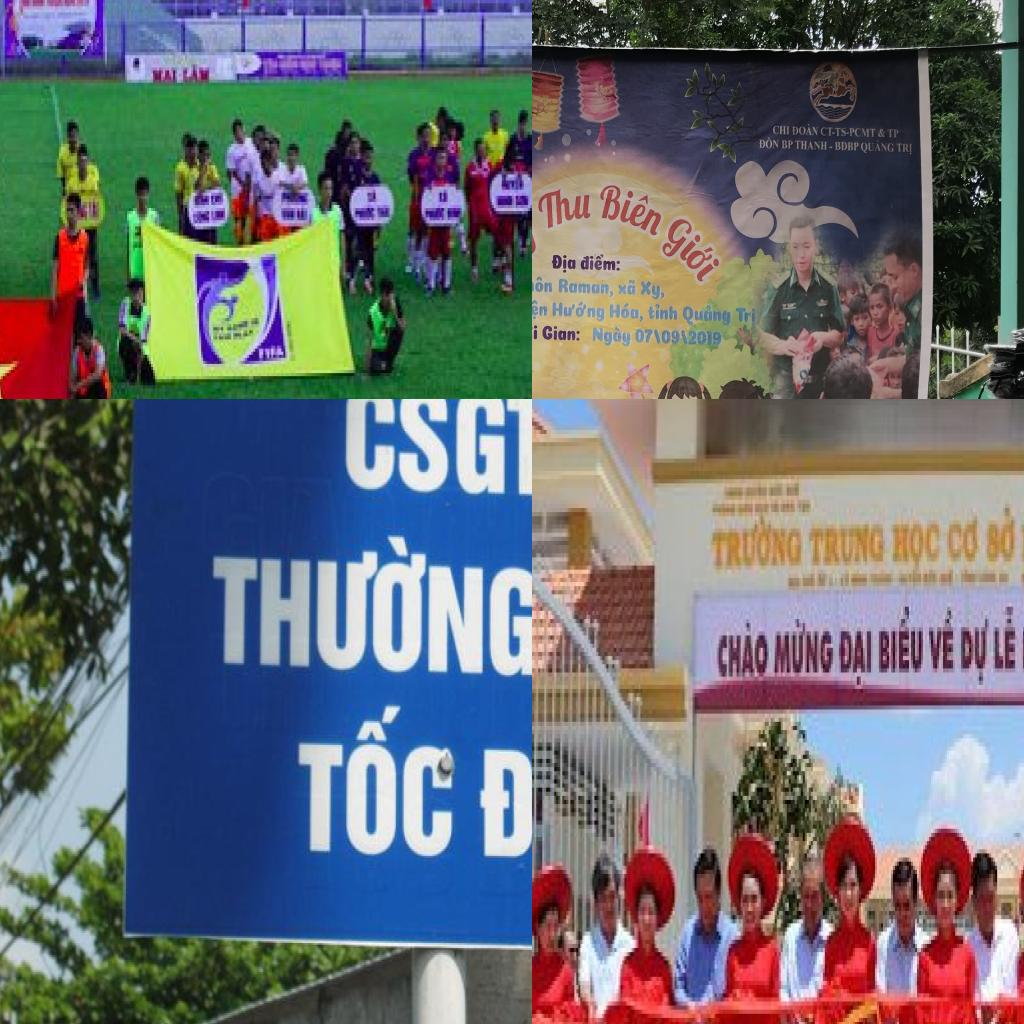text: (207, 528, 532, 680), (295, 699, 459, 864), (341, 399, 532, 500), (710, 512, 804, 578), (595, 171, 671, 242), (657, 207, 725, 286), (773, 615, 835, 681), (714, 615, 770, 685), (807, 520, 885, 570), (877, 602, 925, 676), (889, 516, 943, 570), (534, 182, 592, 232), (959, 611, 991, 693), (839, 623, 875, 693), (983, 500, 1017, 570), (925, 602, 957, 676), (991, 602, 1019, 676), (945, 512, 981, 566), (551, 300, 607, 324), (681, 303, 732, 328), (558, 278, 615, 298), (145, 64, 185, 92), (252, 336, 288, 367), (608, 300, 644, 325), (592, 326, 632, 348), (185, 61, 215, 89), (541, 323, 581, 344), (580, 253, 621, 273), (819, 126, 877, 139), (640, 279, 667, 303), (648, 302, 679, 322), (551, 252, 577, 274), (735, 306, 758, 329), (860, 140, 895, 154), (794, 139, 828, 153), (791, 122, 819, 138), (617, 277, 637, 298), (532, 275, 553, 294), (532, 297, 548, 320), (834, 140, 860, 154), (758, 136, 780, 150), (896, 142, 913, 157), (772, 124, 790, 137), (887, 127, 900, 140), (782, 139, 794, 150), (878, 128, 886, 138)
